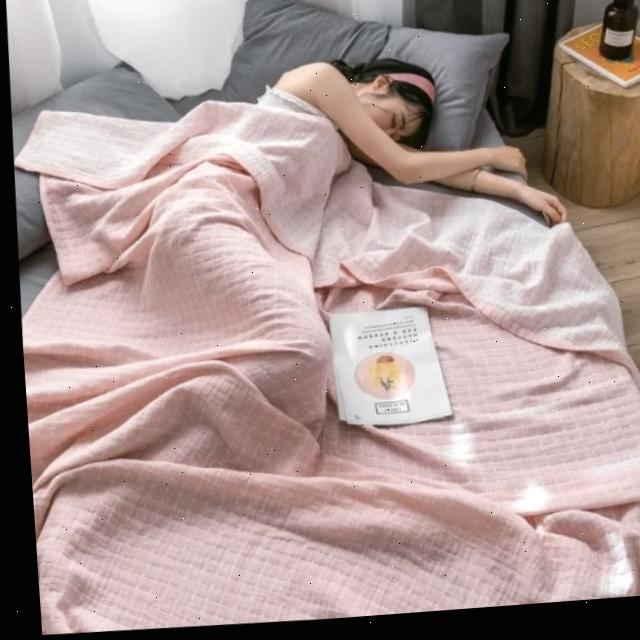sleeping-person: (2, 0, 589, 640)
